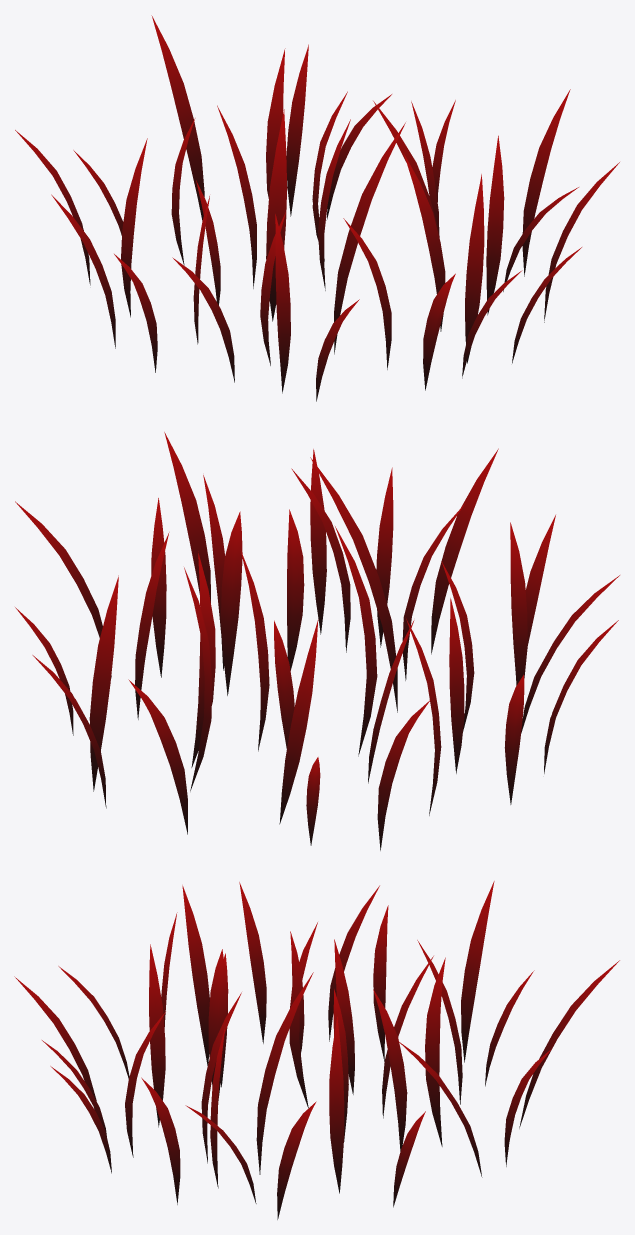
File: Realm Rush Grass.fbx
3 views of the same model, one above another, from view 1: azimuth 30°, elevation 25°; view 2: azimuth 150°, elevation 25°; view 3: azimuth 270°, elevation 25° (orthographic). The views are drawn at different scales.
Parts seen in each view (by area): view 1: Grass; view 2: Grass; view 3: Grass.
Boxes of the visible parts, x1=… form: Grass: x1=15, y1=15, x2=619, y2=401; Grass: x1=15, y1=432, x2=619, y2=850; Grass: x1=14, y1=881, x2=619, y2=1219.
Size of the model in its own units: 3.54 by 1.45 by 3.91.
